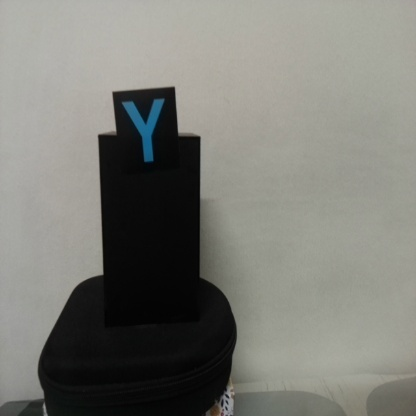id_14: (112, 91, 177, 170)
